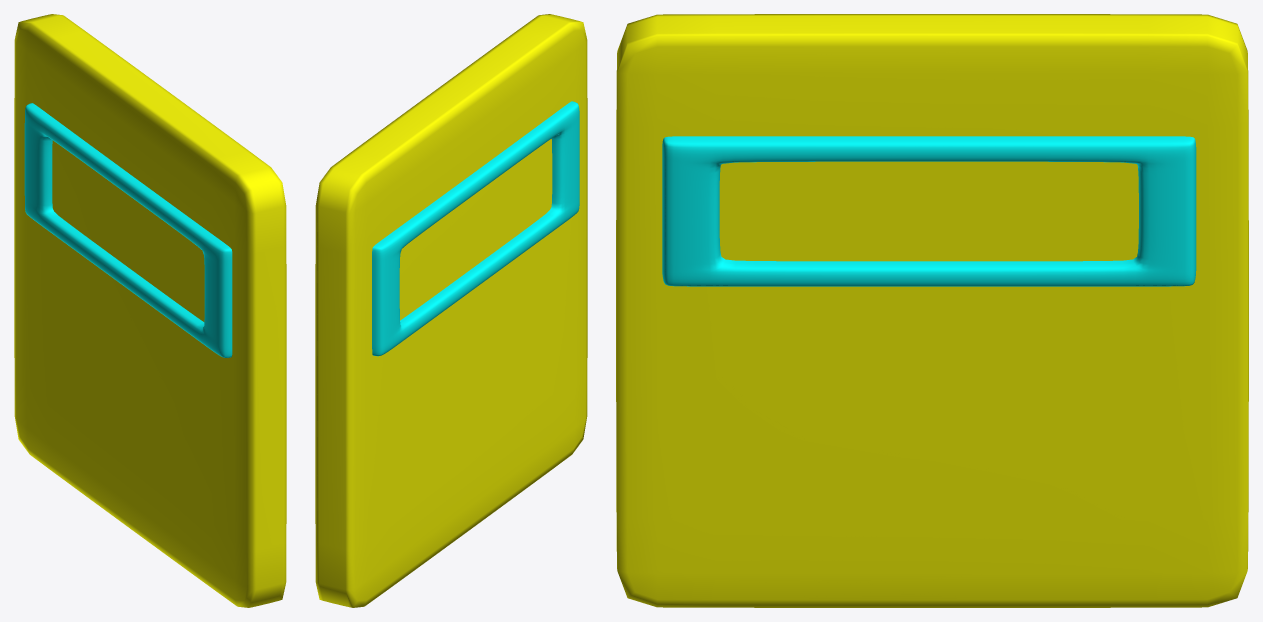
The picture shows the model from 3 angles, left to right: view 1: azimuth 30°, elevation 25°; view 2: azimuth 150°, elevation 25°; view 3: azimuth 270°, elevation 25°; orthographic projection. The views are drawn at different scales.
Visible parts, largest first — view 1: polySurface919; view 2: polySurface919; view 3: polySurface919.
Boxes of the visible parts, x1=… form: polySurface919: x1=14, y1=14, x2=286, y2=607; polySurface919: x1=315, y1=14, x2=587, y2=607; polySurface919: x1=616, y1=14, x2=1248, y2=607.
Size of the model in its own units: 0.1498 by 0.9994 by 0.9994.
